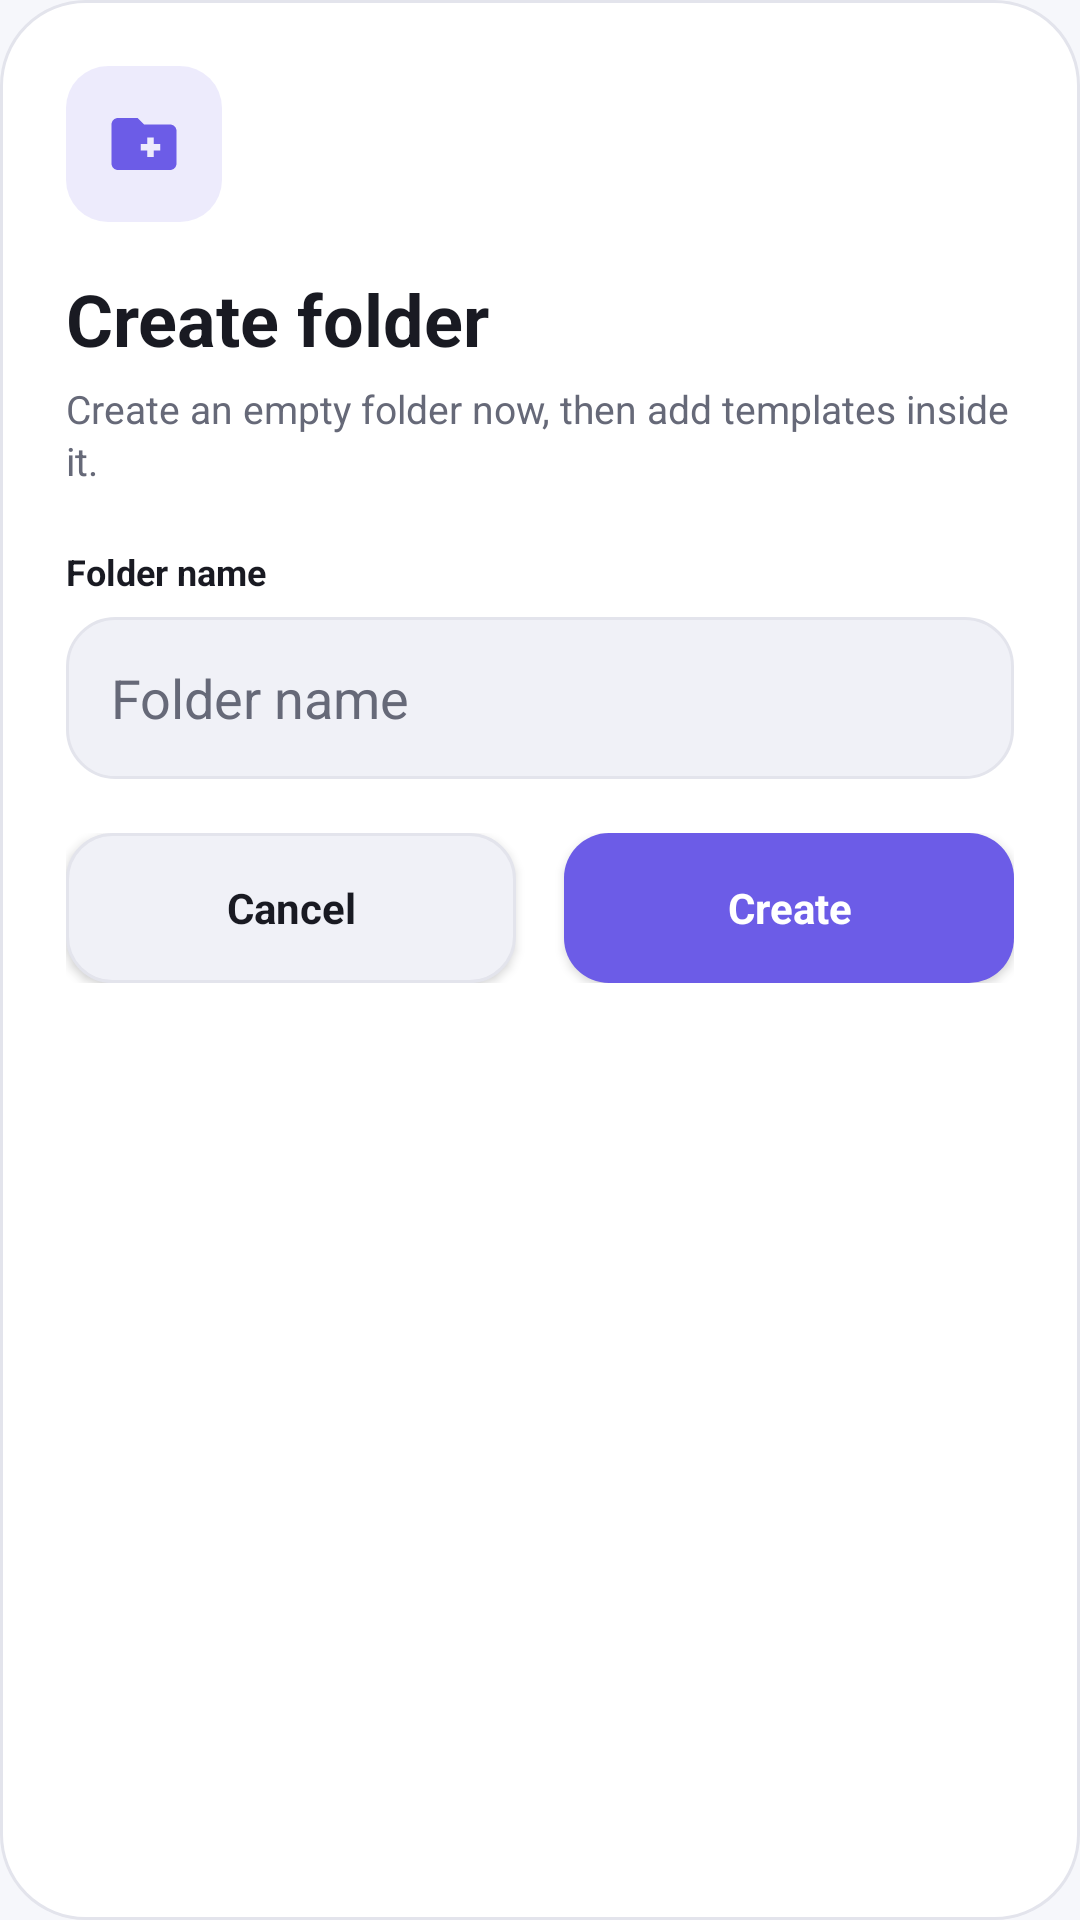

Where icons sit on this 1080*1920 app screen, as BBox(x1, y1, x2, y2):
folder add: BBox(111, 118, 177, 170)
